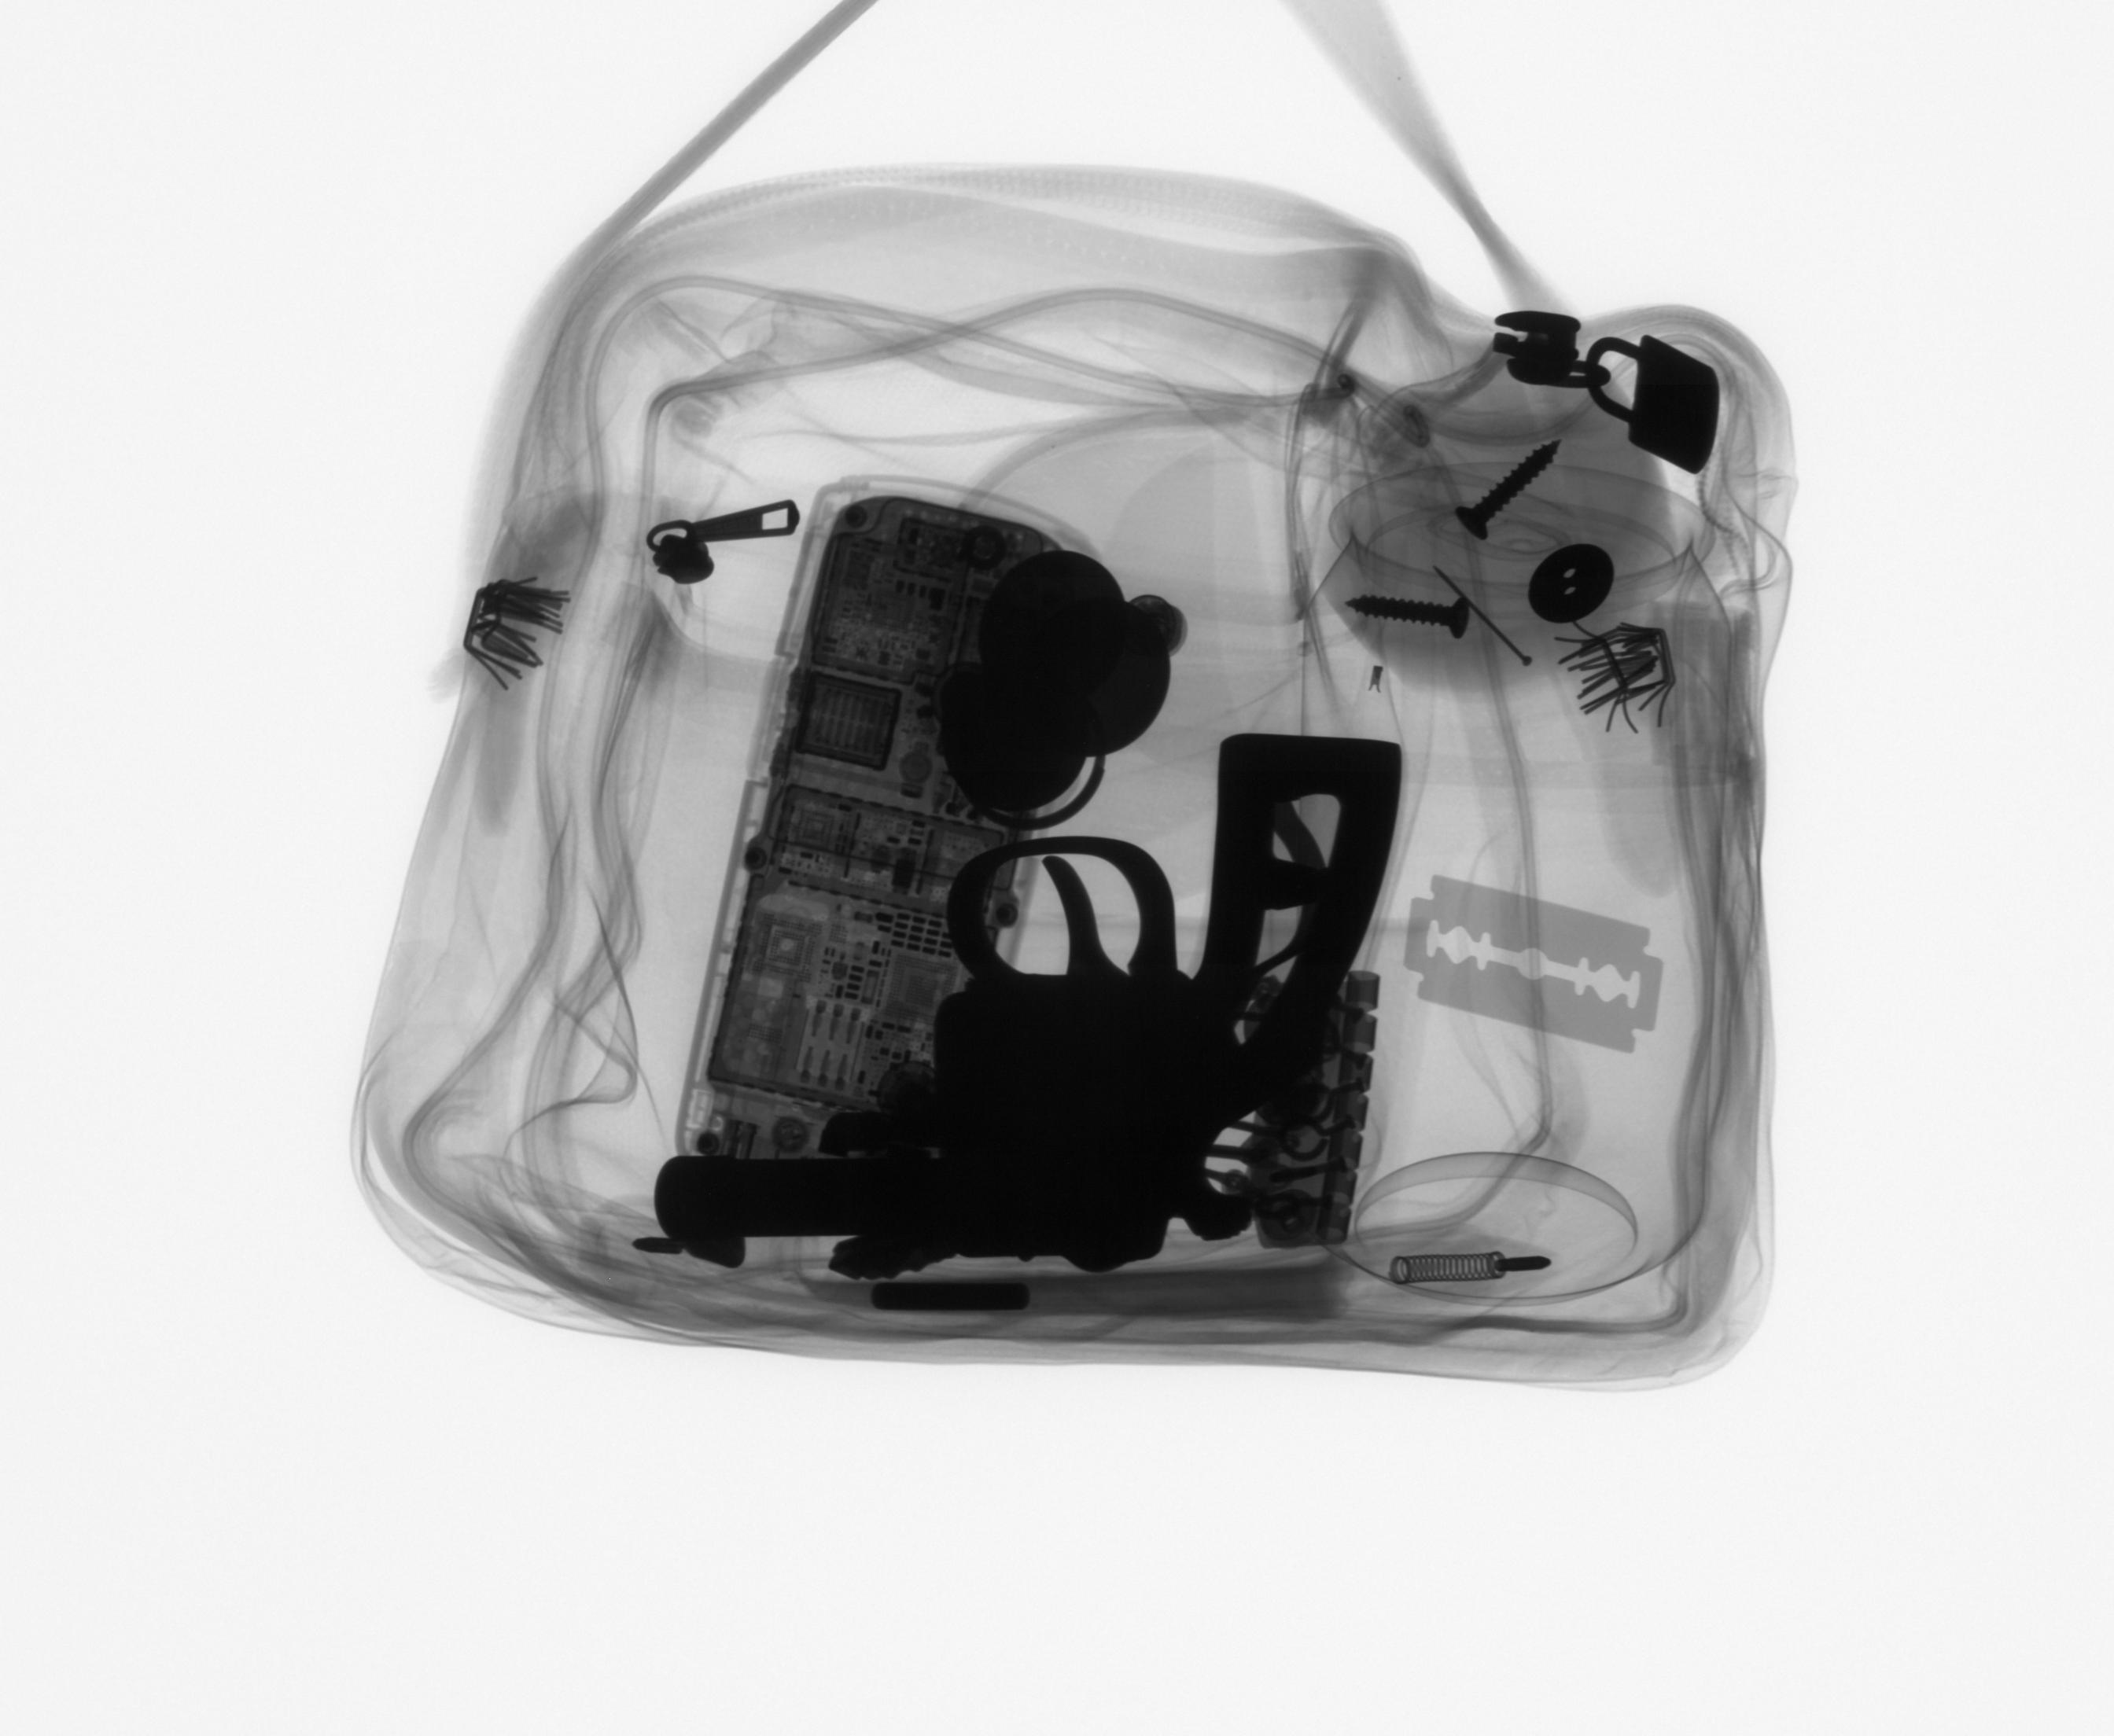Handgun: (644, 727, 1412, 1290)
RazorBlade: (1405, 869, 1672, 1058)
